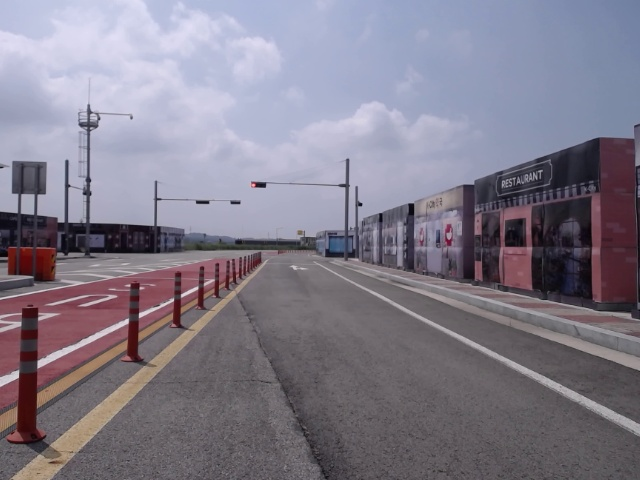red_3: (252, 182, 266, 188)
